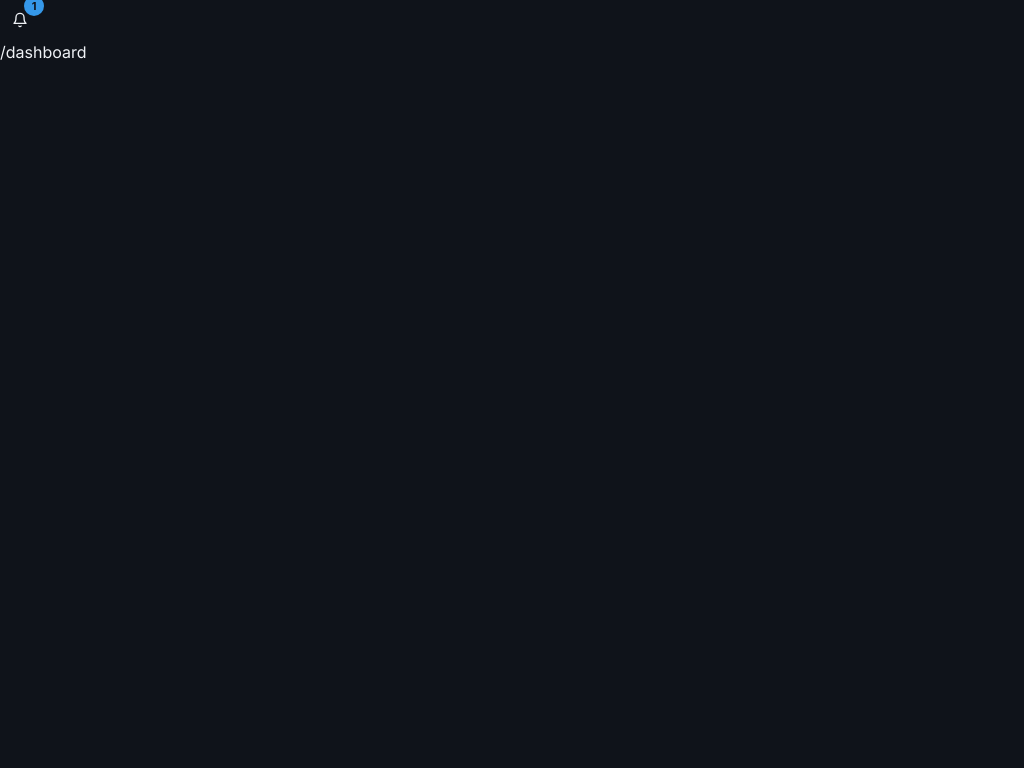
NotificationPanel — the stored bell › says when the ask can no longer be taken
Click the button named "unread notifications".
click(20, 20)  # box [0,0,40,40]
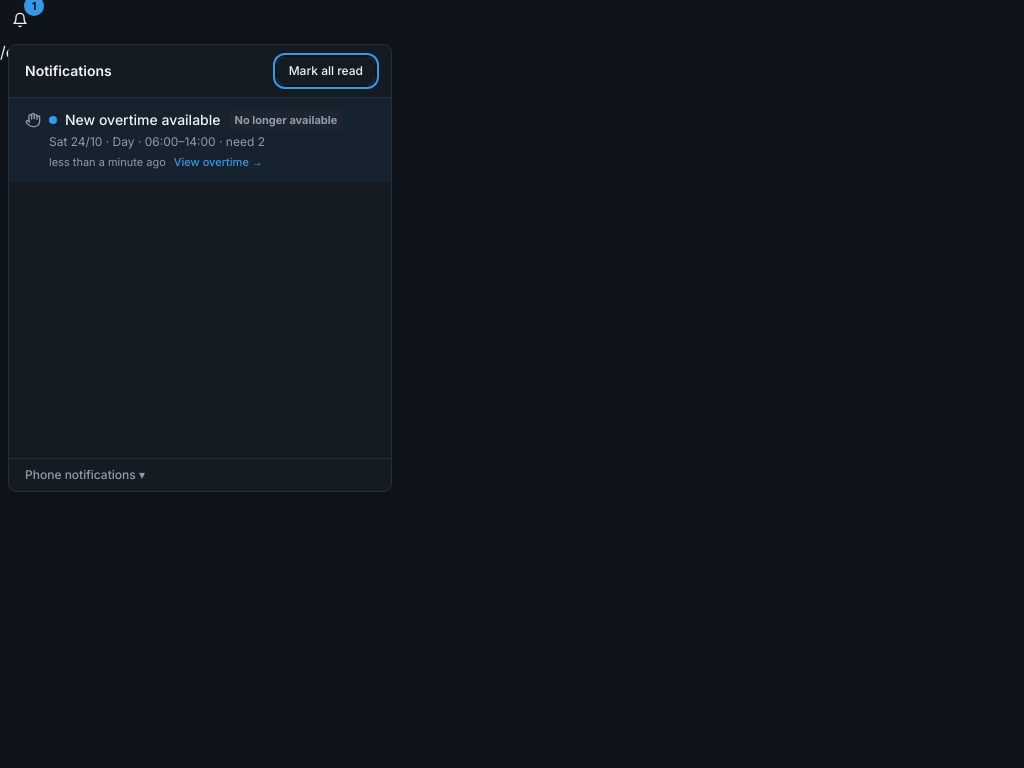
expect the text "No longer available" is shown: met, box [228,110,343,130]
